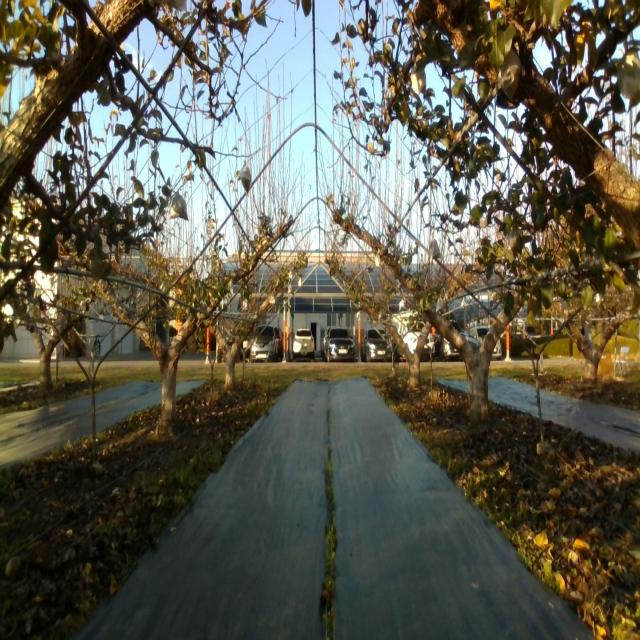pearbags: (617, 51, 640, 112), (170, 192, 189, 220), (241, 162, 251, 195), (428, 240, 440, 260)
